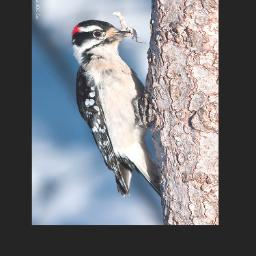Woodpecker: (71, 19, 159, 197)
